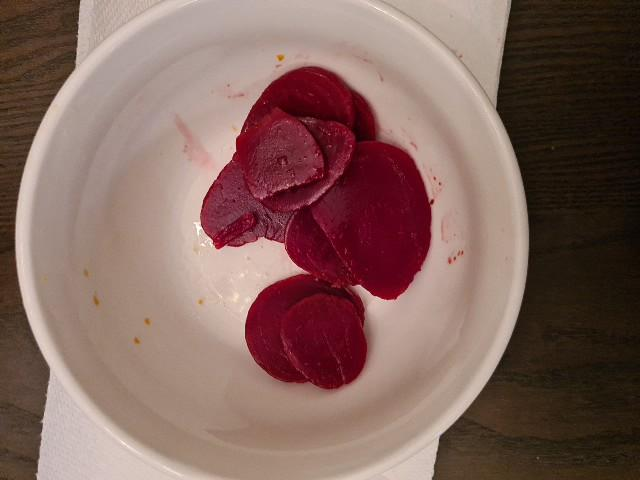kichen waste: (201, 67, 433, 390)
